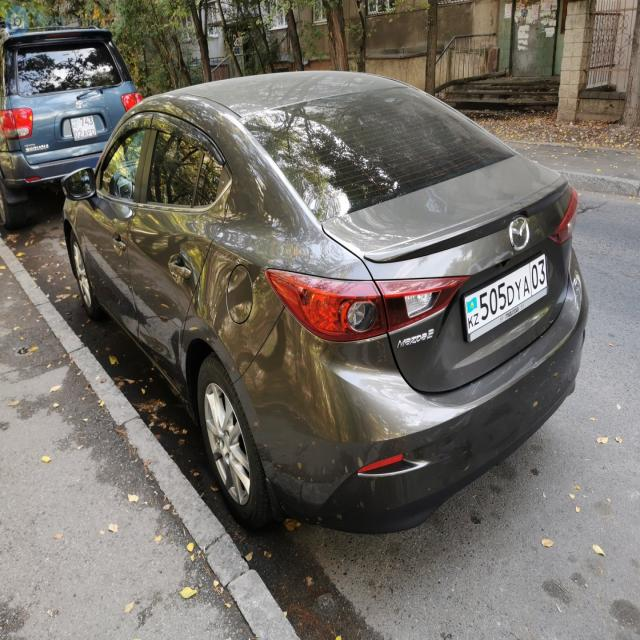car: (61, 69, 590, 534), (0, 25, 144, 229)
license: (461, 251, 548, 343)
